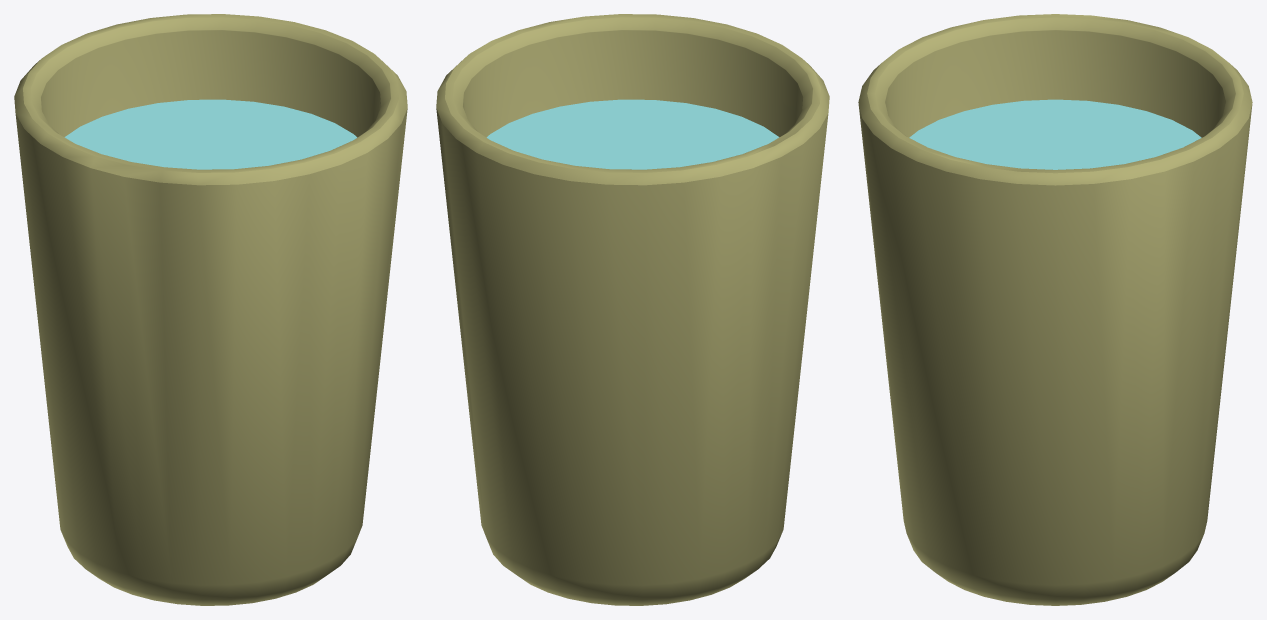
Rendered from waterCup.fbx.
The picture shows the model from 3 angles, left to right: view 1: azimuth 30°, elevation 25°; view 2: azimuth 150°, elevation 25°; view 3: azimuth 270°, elevation 25°; orthographic projection.
Parts seen in each view (by area): view 1: glassofwaterJOINED; view 2: glassofwaterJOINED; view 3: glassofwaterJOINED.
Boxes of the visible parts, left/top/right/bottom form: glassofwaterJOINED: left=14, top=14, right=407, bottom=605; glassofwaterJOINED: left=436, top=14, right=829, bottom=605; glassofwaterJOINED: left=858, top=14, right=1252, bottom=605.
Size of the model in its own units: 32.32 by 41.85 by 32.32.
